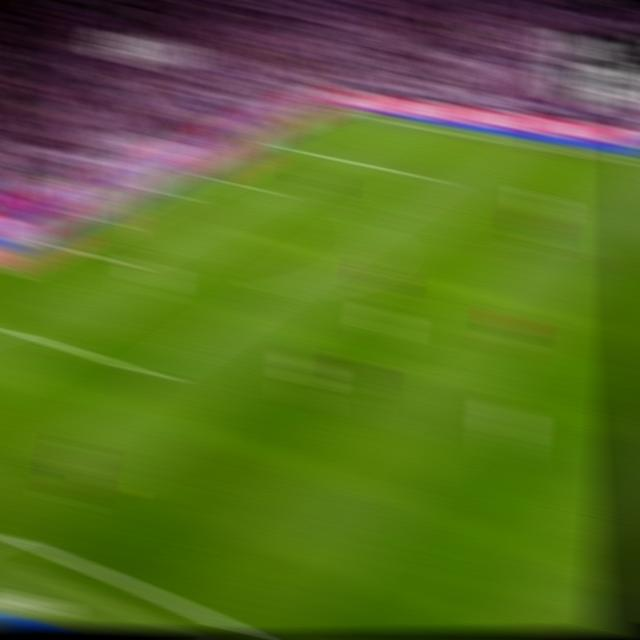bigarea_bottom_inner: (133, 359, 167, 388)
bigarea_top_inner: (418, 168, 449, 188)
bottom_arc_area_intersection: (256, 278, 289, 302)
corner: (329, 106, 359, 120)
smallarea_bottom_inner: (105, 252, 138, 275)
smallarea_top_inner: (248, 182, 275, 197)
top_arc_area_intersection: (354, 212, 384, 232)
